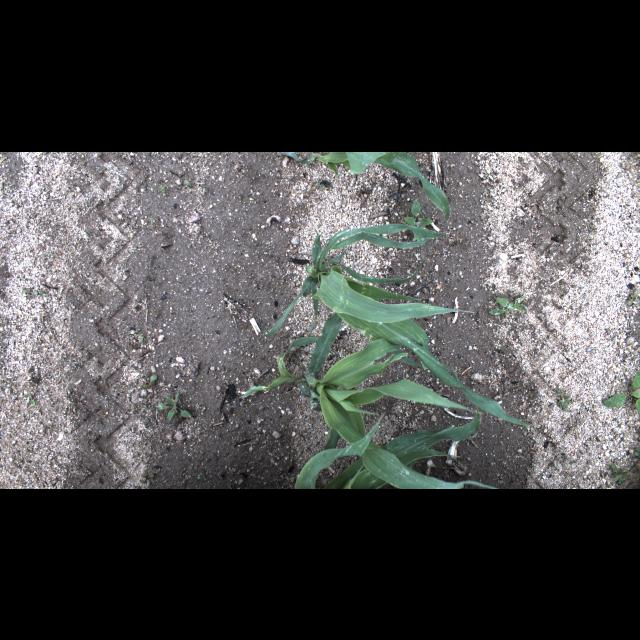crop: (263, 224, 535, 428), (301, 312, 499, 488), (322, 408, 481, 488), (274, 152, 451, 218), (294, 412, 384, 488), (236, 333, 320, 399)
weed: (402, 194, 434, 228), (156, 389, 192, 419), (486, 294, 528, 318), (606, 462, 628, 486), (628, 367, 638, 418), (601, 394, 629, 411), (138, 371, 158, 392), (67, 392, 87, 408), (558, 385, 570, 411), (23, 285, 47, 297), (309, 178, 329, 192), (134, 330, 146, 348), (139, 471, 157, 483), (624, 286, 636, 304), (24, 390, 36, 406), (192, 474, 208, 484), (148, 217, 158, 230), (184, 178, 196, 188), (155, 186, 169, 194), (632, 447, 638, 465)
